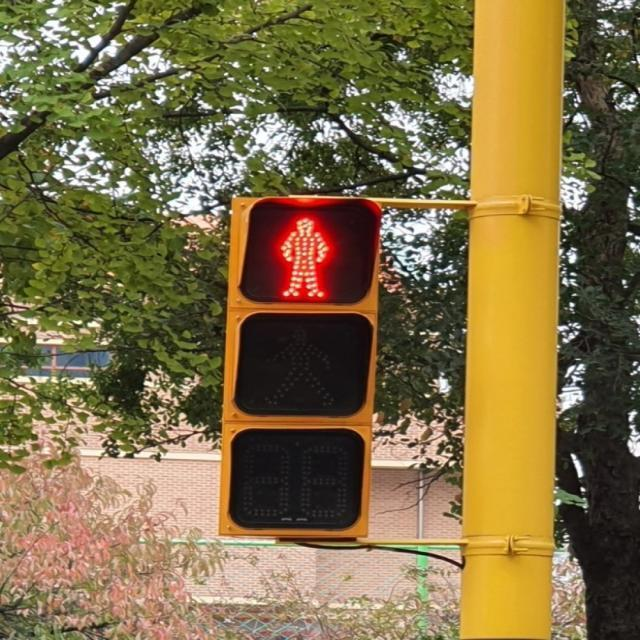red_light: (262, 212, 346, 300)
